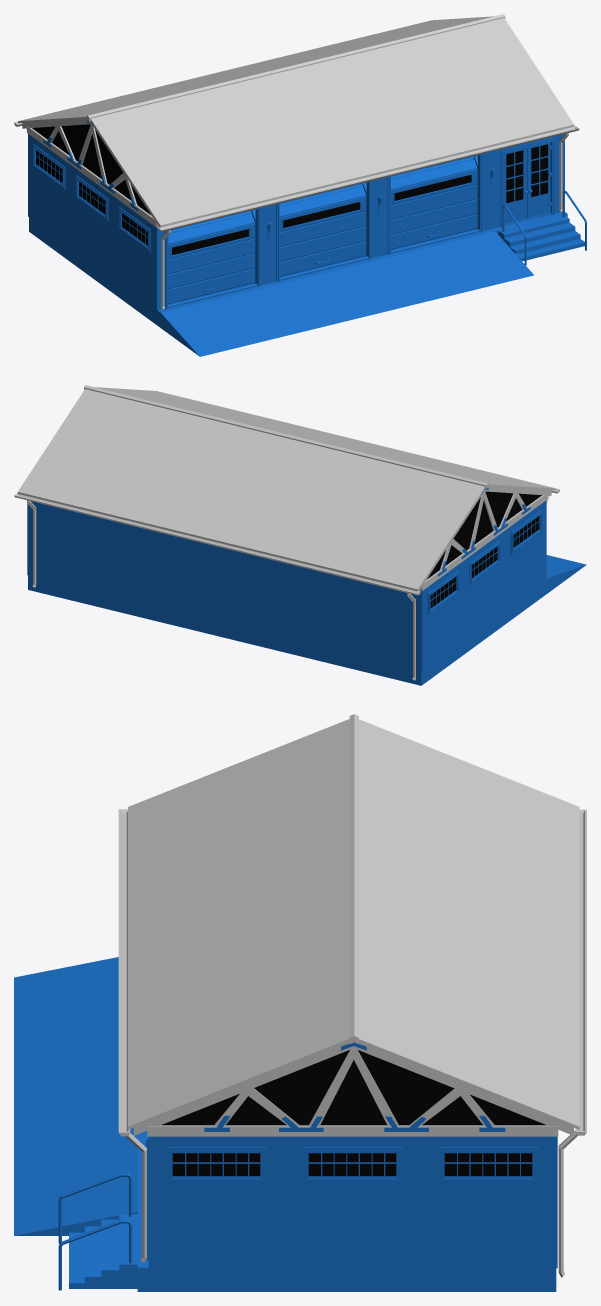
File: SM_garage.fbx
The picture shows the model from 3 angles, top to bottom: view 1: azimuth 30°, elevation 25°; view 2: azimuth 150°, elevation 25°; view 3: azimuth 270°, elevation 25°; orthographic projection. The views are drawn at different scales.
Visible parts, largest first — view 1: Cube_8, Cube_6_3, Cube_6_2, Cube_6, Cube_7, Symmetry_5; view 2: Cube_8; view 3: Cube_8.
Part boxes in pixels (left/top/right/bottom): Cube_8: left=14, top=14, right=586, bottom=356; Cube_6_3: left=279, top=184, right=366, bottom=276; Cube_6_2: left=391, top=156, right=477, bottom=249; Cube_6: left=168, top=211, right=254, bottom=303; Cube_7: left=527, top=142, right=550, bottom=217; Symmetry_5: left=504, top=148, right=528, bottom=223; Cube_8: left=14, top=385, right=586, bottom=685; Cube_8: left=14, top=714, right=586, bottom=1291.
Bounding box in the file's own units: 1480 × 561 × 1109.
